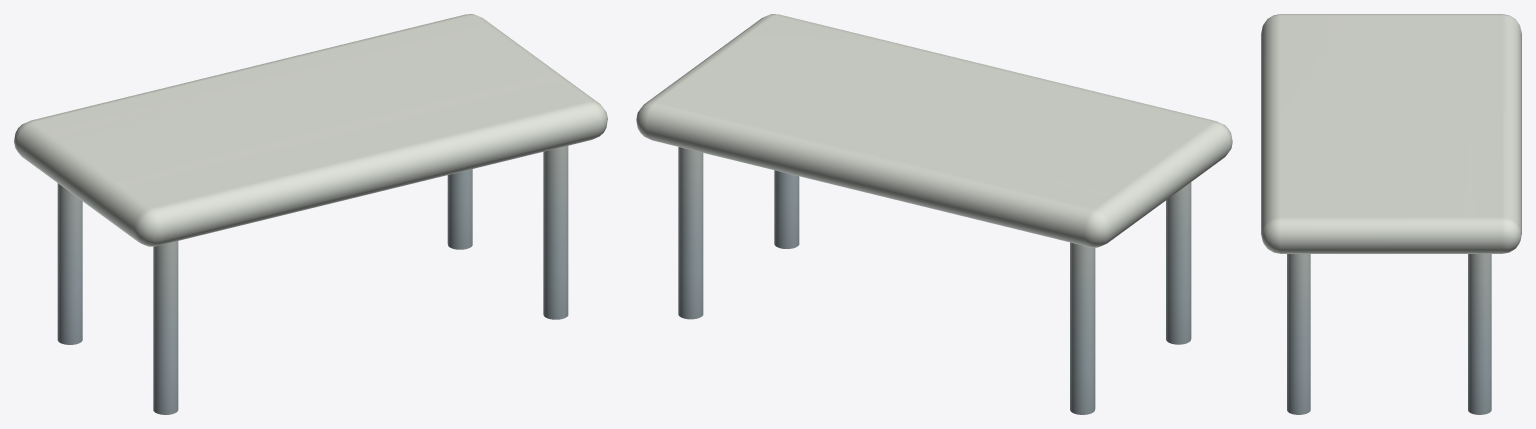
The model's file is New_Table_2.fbx.
The picture shows the model from 3 angles, left to right: view 1: azimuth 30°, elevation 25°; view 2: azimuth 150°, elevation 25°; view 3: azimuth 270°, elevation 25°; orthographic projection. The views are drawn at different scales.
Parts seen in each view (by area): view 1: pCube13; view 2: pCube13; view 3: pCube13.
Part boxes in pixels (bbox=[...]): pCube13: bbox=[14, 14, 607, 414]; pCube13: bbox=[636, 14, 1232, 414]; pCube13: bbox=[1261, 14, 1521, 414].
Size of the model in its own units: 320 by 139 by 162.
